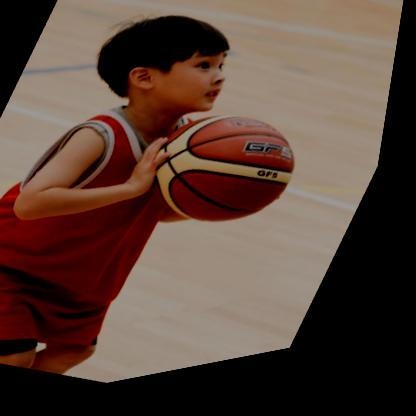basketball: (137, 95, 327, 266)
